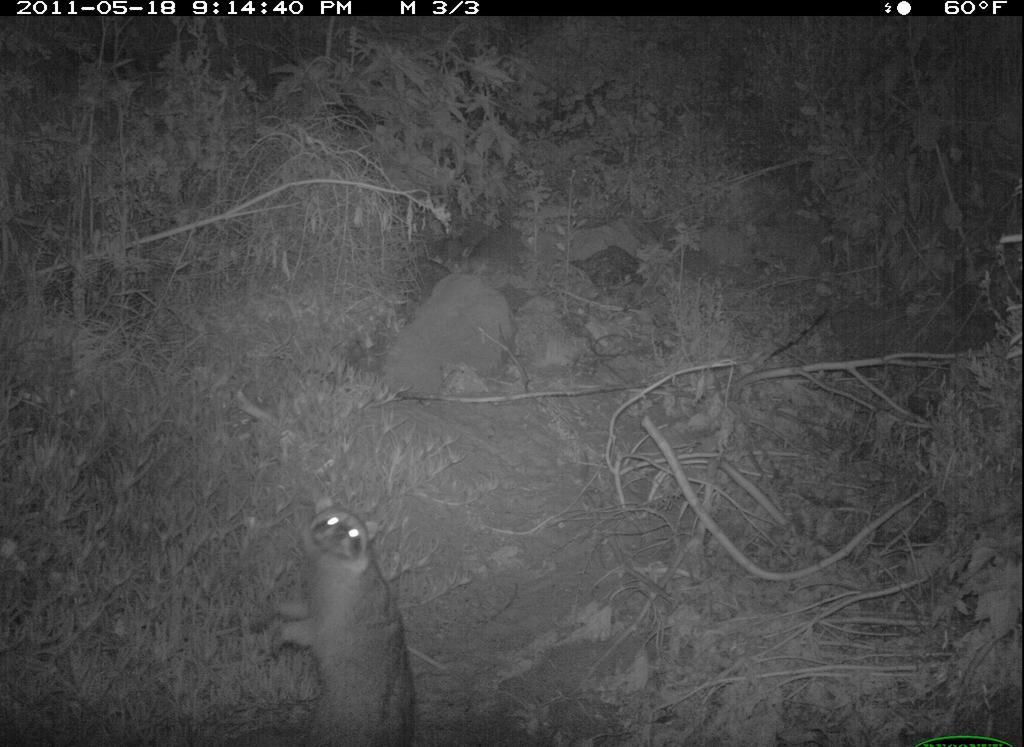raccoon: (239, 482, 446, 745)
